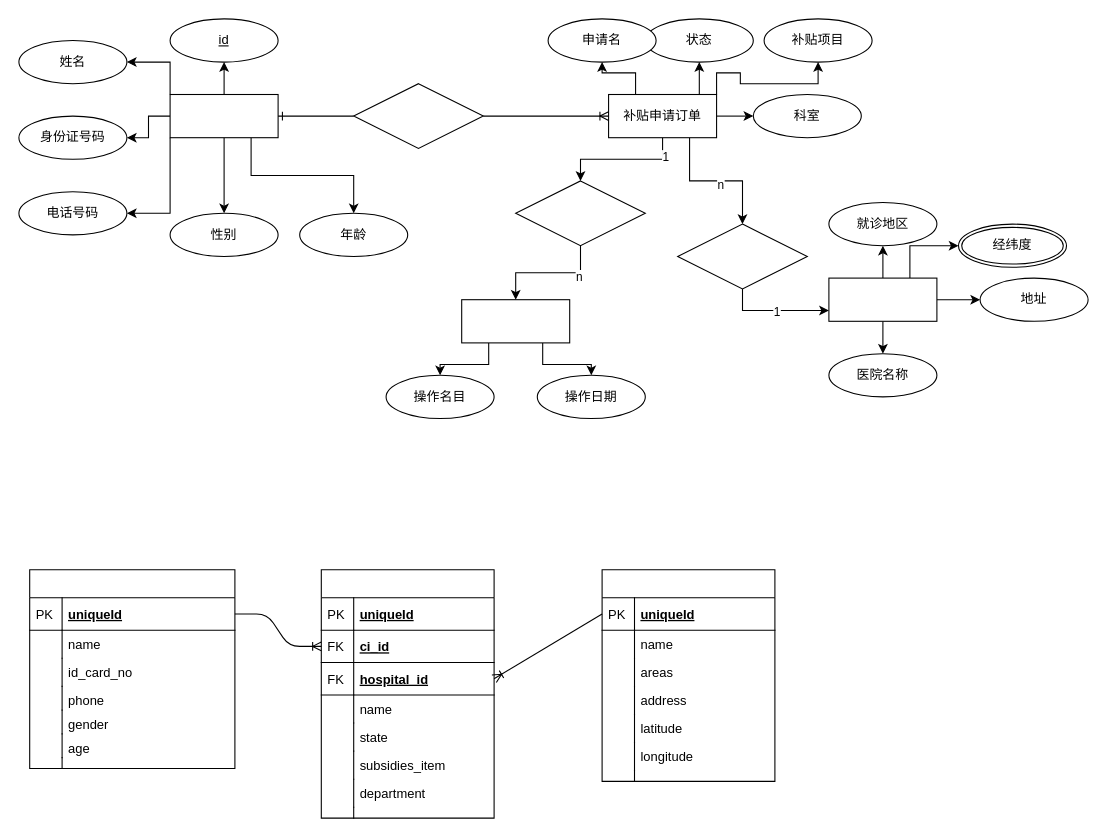
This 1107x837 diagram has some shape labels left out. The shapes that lost their labels are listed below. From the top down, each one's box as (x1, y1, x2, y2) in pixels, then its label:
(169, 93, 278, 138): 补贴申请者信息
(353, 83, 483, 148): 申请
(515, 180, 645, 246): 操作(申请/审核/报销)
(677, 223, 807, 289): 所属
(828, 277, 937, 321): 医疗机构
(461, 299, 570, 343): 补贴申请操作记录
(29, 569, 235, 768): claimer_info
(601, 569, 775, 781): hospital
(320, 569, 494, 818): subsidy_orders
